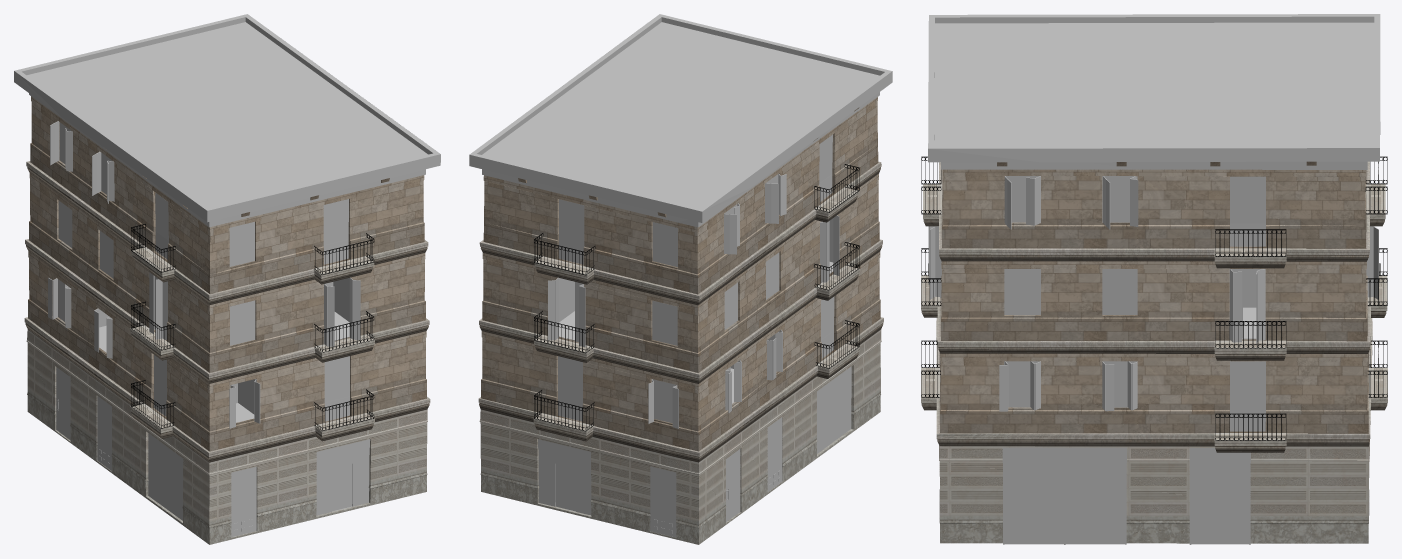
The model's file is residential_4_LOD0.FBX.
3 views of the same model, side by side, from view 1: azimuth 30°, elevation 25°; view 2: azimuth 150°, elevation 25°; view 3: azimuth 270°, elevation 25° (orthographic). The views are drawn at different scales.
Parts seen in each view (by area): view 1: building_4, building4_roof, building4_windows_lod0, building4, building4_transparent, building4_interior; view 2: building_4, building4_roof, building4, building4_windows_lod0, building4_transparent, building4_interior; view 3: building_4, building4_roof, bbuilding4_3, building4, building4_transparent, building4_windows_lod0, building4_interior.
Part boxes in pixels (x1,y1,x2,y2): building_4: [14, 14, 440, 544]; building4_roof: [27, 22, 427, 207]; building4_windows_lod0: [56, 122, 370, 520]; building4: [48, 121, 360, 537]; building4_transparent: [131, 224, 374, 431]; building4_interior: [66, 276, 349, 422]; building_4: [469, 14, 892, 544]; building4_roof: [482, 22, 879, 208]; building4: [548, 173, 839, 537]; building4_windows_lod0: [538, 174, 851, 521]; building4_transparent: [534, 164, 859, 431]; building4_interior: [559, 218, 833, 423]; building_4: [921, 14, 1387, 543]; building4_roof: [934, 22, 1374, 145]; bbuilding4_3: [1002, 447, 1250, 544]; building4: [928, 176, 1380, 411]; building4_transparent: [921, 156, 1387, 440]; building4_windows_lod0: [1004, 176, 1137, 407]; building4_interior: [1012, 222, 1262, 407].
Bounding box in the file's own units: 1128 × 1489 × 1577.
